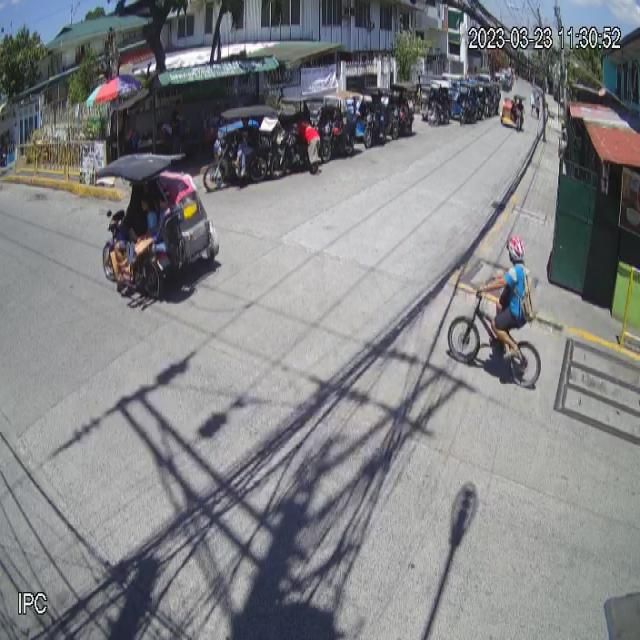Tricycle: (97, 153, 219, 302)
